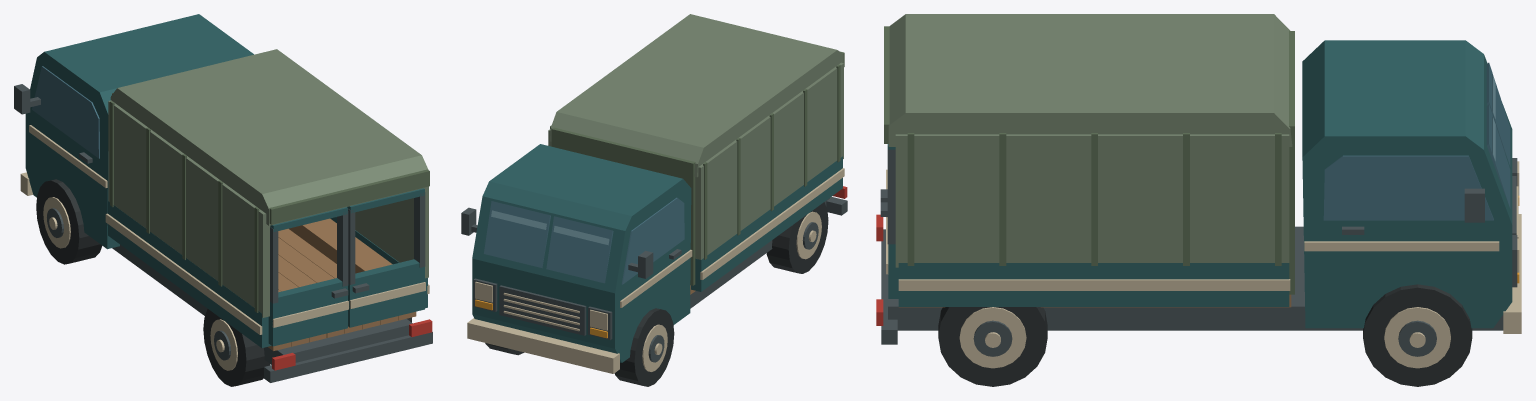
File: Stage2_PartyBongo.glb
The picture shows the model from 3 angles, left to right: view 1: azimuth 30°, elevation 25°; view 2: azimuth 150°, elevation 25°; view 3: azimuth 270°, elevation 25°; orthographic projection. The views are drawn at different scales.
Parts seen in each view (by area): view 1: TruckBody, RearDoorLeft, RearDoorRight, WheelFrontLeft, WheelRearLeft; view 2: TruckBody, WheelFrontLeft, WheelRearLeft; view 3: TruckBody, WheelFrontRight, WheelRearRight, RearDoorRight.
Boxes of the visible parts, left/top/right/bottom form: TruckBody: left=14, top=14, right=432, bottom=382; RearDoorLeft: left=268, top=207, right=348, bottom=346; RearDoorRight: left=347, top=188, right=425, bottom=327; WheelFrontLeft: left=36, top=179, right=101, bottom=264; WheelRearLeft: left=203, top=309, right=270, bottom=386; TruckBody: left=461, top=14, right=847, bottom=373; WheelFrontLeft: left=614, top=308, right=674, bottom=386; WheelRearLeft: left=766, top=202, right=828, bottom=273; TruckBody: left=876, top=14, right=1521, bottom=344; WheelFrontRight: left=1363, top=284, right=1472, bottom=386; WheelRearRight: left=938, top=307, right=1047, bottom=386; RearDoorRight: left=880, top=144, right=898, bottom=298.
Bounding box in the file's own units: 2.89 × 2.96 × 6.36.
